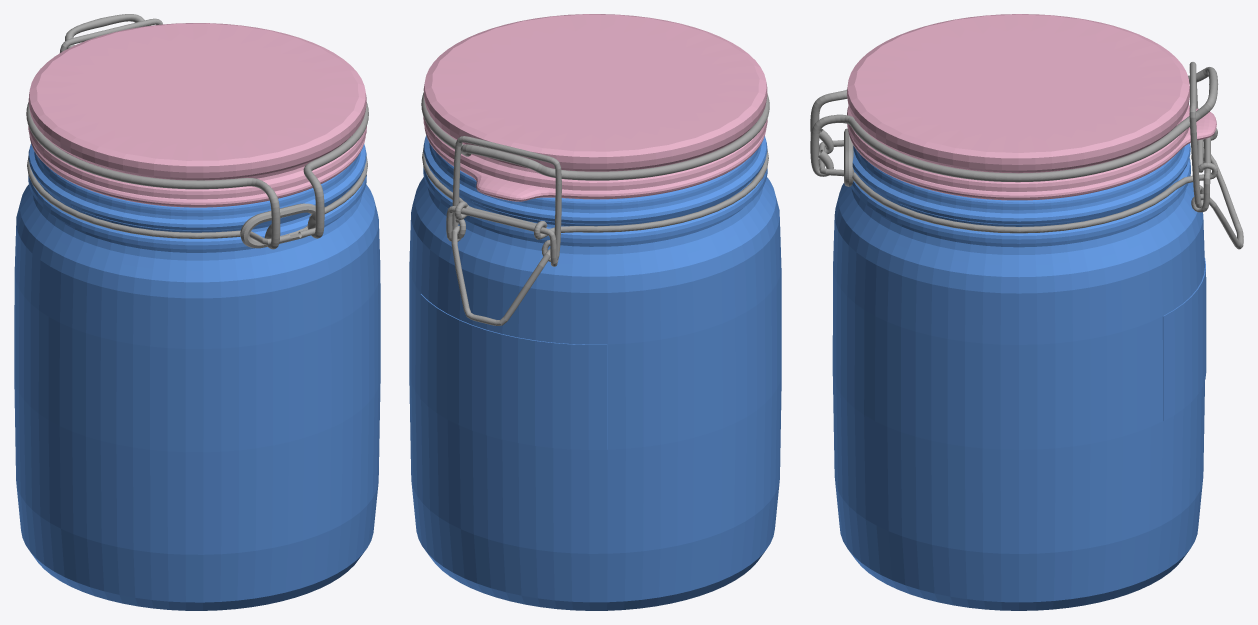
File: jar.fbx
3 views of the same model, side by side, from view 1: azimuth 30°, elevation 25°; view 2: azimuth 150°, elevation 25°; view 3: azimuth 270°, elevation 25° (orthographic).
Visible parts, largest first — view 1: Circle, Circle.002, Circle.003, Circle.007; view 2: Circle, Circle.002, Circle.001, Circle.006, Circle.007; view 3: Circle, Circle.002, Circle.001, Circle.006, Circle.007.
Part boxes in pixels (<box>): Circle: <box>14,143,380,610</box>; Circle.002: <box>26,14,368,249</box>; Circle.003: <box>240,203,315,248</box>; Circle.007: <box>60,18,162,52</box>; Circle: <box>409,135,781,610</box>; Circle.002: <box>421,14,769,201</box>; Circle.001: <box>420,294,607,449</box>; Circle.006: <box>446,206,558,325</box>; Circle.007: <box>452,136,561,261</box>; Circle: <box>818,128,1217,610</box>; Circle.002: <box>810,14,1218,200</box>; Circle.001: <box>1162,258,1206,420</box>; Circle.006: <box>1191,137,1243,249</box>; Circle.007: <box>1189,62,1204,207</box>.
Bounding box in the file's own units: 40.3 × 54.99 × 46.87.
